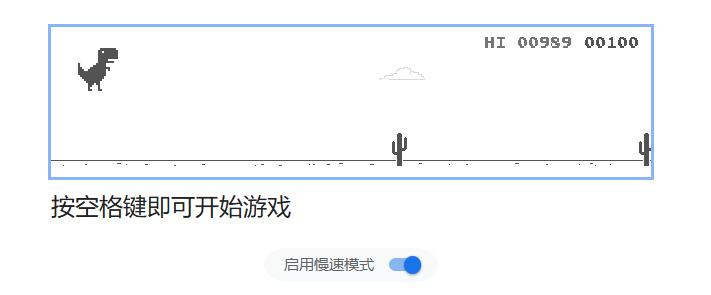cactus: (391, 132, 408, 166), (638, 132, 651, 167)
dino: (76, 46, 119, 92)
